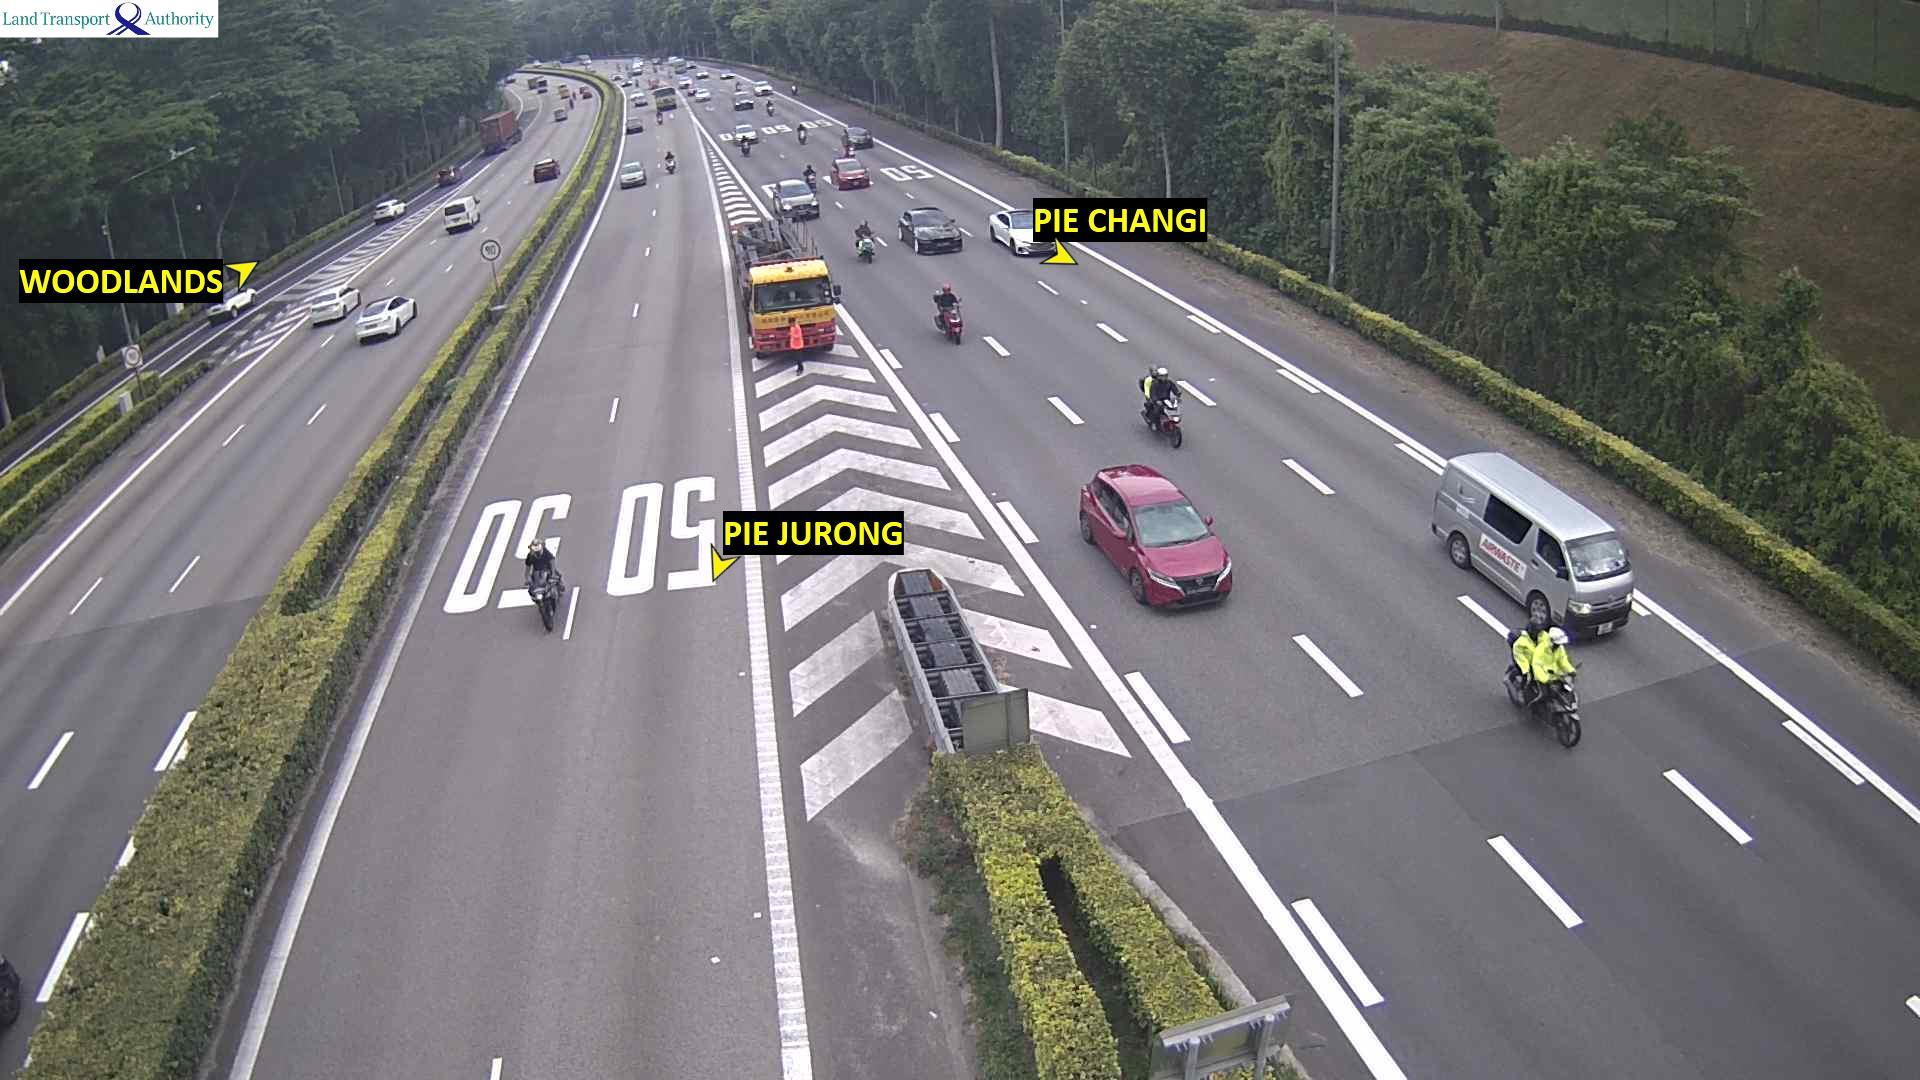cars: (1429, 448, 1635, 641), (1077, 462, 1233, 611), (986, 207, 1056, 256), (897, 206, 963, 255), (353, 294, 415, 343), (761, 177, 819, 222), (306, 284, 359, 324), (206, 287, 256, 320), (442, 194, 480, 232), (829, 156, 872, 189), (485, 128, 522, 153), (372, 196, 405, 222), (618, 160, 646, 189), (531, 156, 559, 181), (843, 125, 872, 149), (732, 123, 758, 144), (435, 164, 459, 185), (731, 90, 753, 109), (673, 75, 696, 90), (625, 116, 644, 133), (752, 79, 771, 95), (692, 86, 712, 102), (629, 90, 646, 105), (575, 53, 592, 67), (553, 105, 567, 121), (629, 58, 644, 74), (578, 84, 592, 99), (692, 69, 712, 79), (534, 76, 547, 92), (555, 82, 568, 96), (719, 69, 736, 79), (502, 73, 517, 83), (608, 71, 622, 82), (620, 79, 636, 88), (684, 58, 699, 67), (647, 55, 662, 63), (530, 61, 545, 67), (551, 61, 562, 69)
motorcycle: (1502, 658, 1582, 749), (525, 564, 564, 633), (1139, 392, 1183, 448), (932, 297, 963, 344), (855, 233, 876, 262), (802, 162, 823, 189), (760, 100, 782, 115), (738, 138, 757, 156), (665, 152, 676, 173), (794, 124, 808, 141), (651, 112, 666, 127), (790, 83, 800, 98), (612, 62, 625, 71), (649, 63, 658, 73)
trucks: (731, 218, 841, 357), (477, 108, 521, 153), (653, 84, 676, 109), (669, 58, 691, 74)
